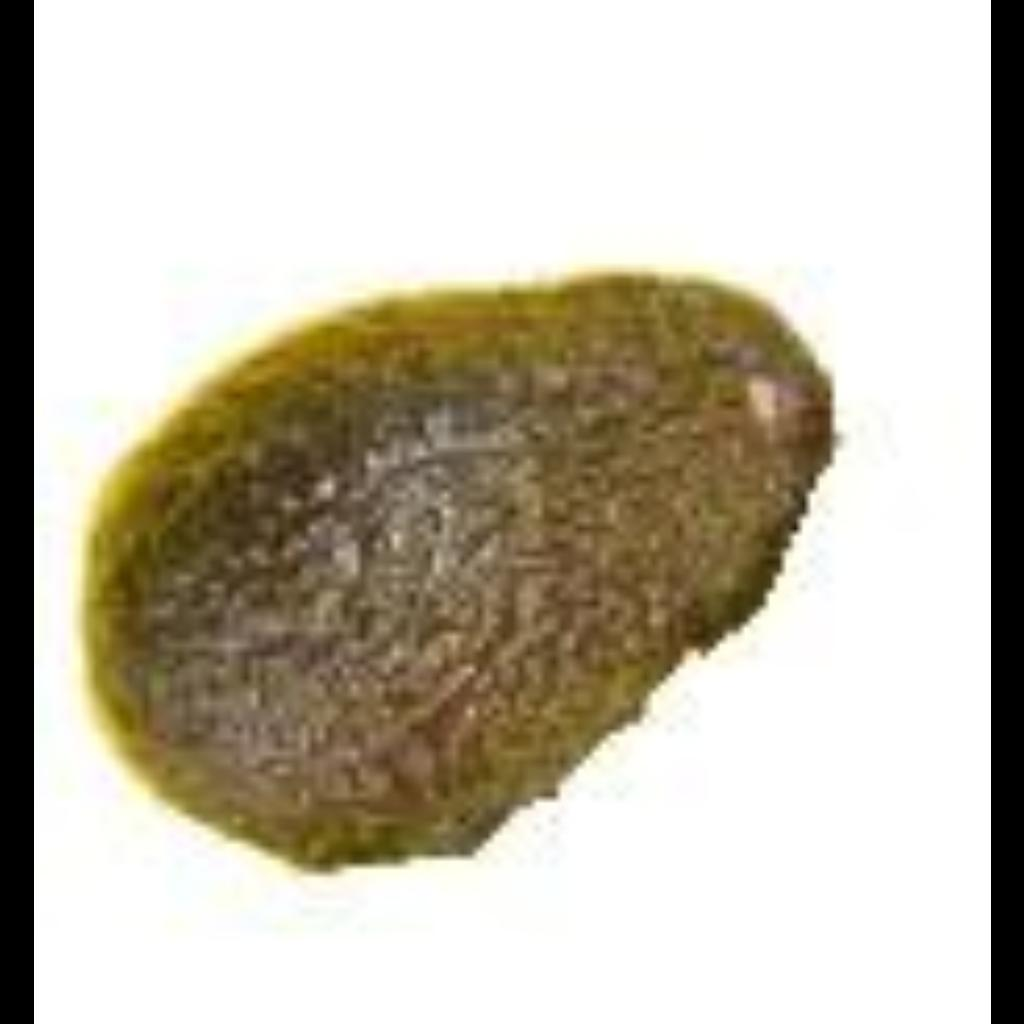antracnosis_fruto: (58, 316, 716, 857)
